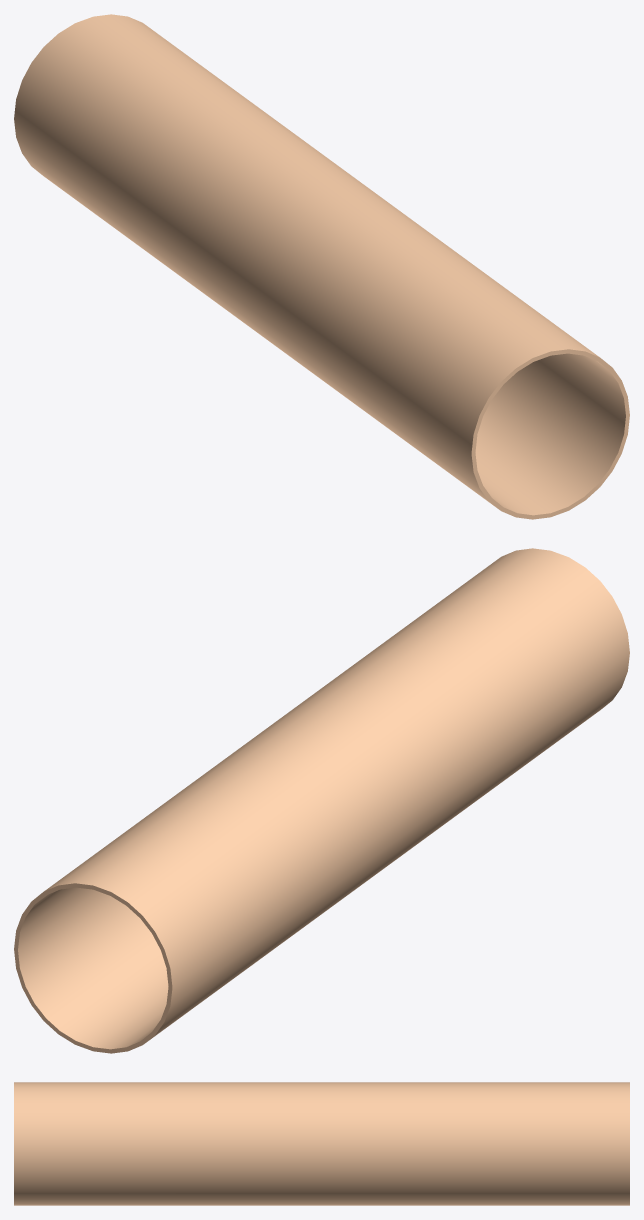
Rendered from zig.glb.
3 renders of one model, top to bottom at view 1: azimuth 30°, elevation 25°; view 2: azimuth 150°, elevation 25°; view 3: azimuth 270°, elevation 25°, orthographic. The views are drawn at different scales.
Parts seen in each view (by area): view 1: ??; view 2: ??; view 3: ??.
Part boxes in pixels (bbox=[...]): ??: bbox=[14, 14, 629, 519]; ??: bbox=[14, 548, 629, 1053]; ??: bbox=[14, 1082, 629, 1205].
Bounding box in the file's own units: 2000 × 2000 × 10000.
